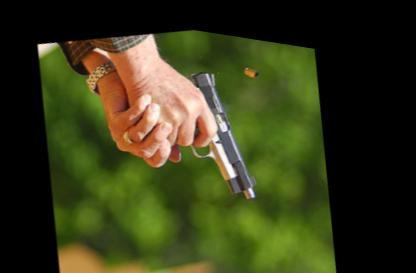pistol: (170, 48, 282, 201)
